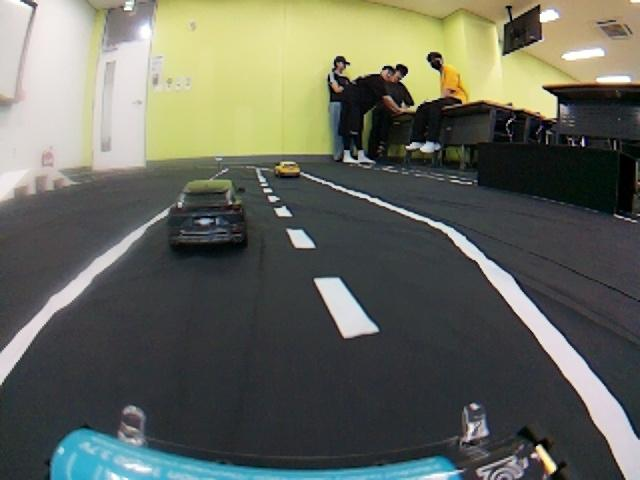objects: (2, 156, 640, 480)
